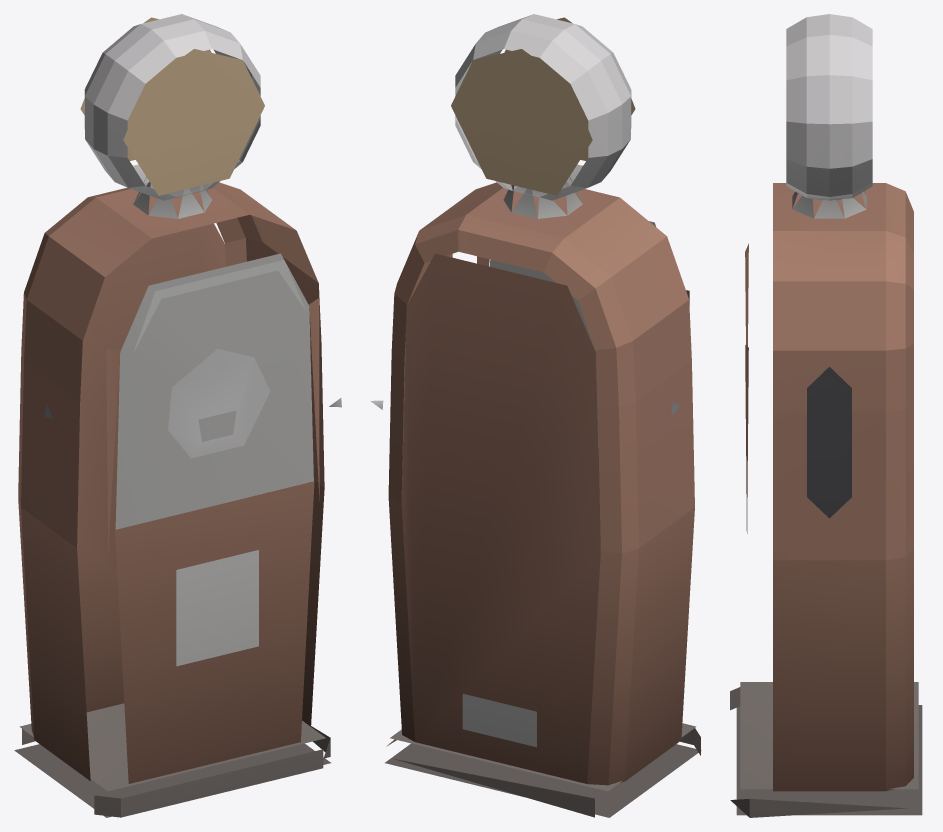
File: pump.lod.glb
The picture shows the model from 3 angles, left to right: view 1: azimuth 30°, elevation 25°; view 2: azimuth 150°, elevation 25°; view 3: azimuth 270°, elevation 25°; orthographic projection.
Parts seen in each view (by area): view 1: pump.001; view 2: pump.001; view 3: pump.001.
Boxes of the visible parts, x1,y1,x2,y2 form: pump.001: [14, 14, 341, 817]; pump.001: [370, 14, 701, 817]; pump.001: [730, 14, 922, 817].
Bounding box in the file's own units: 0.9661 × 2.26 × 0.554.
